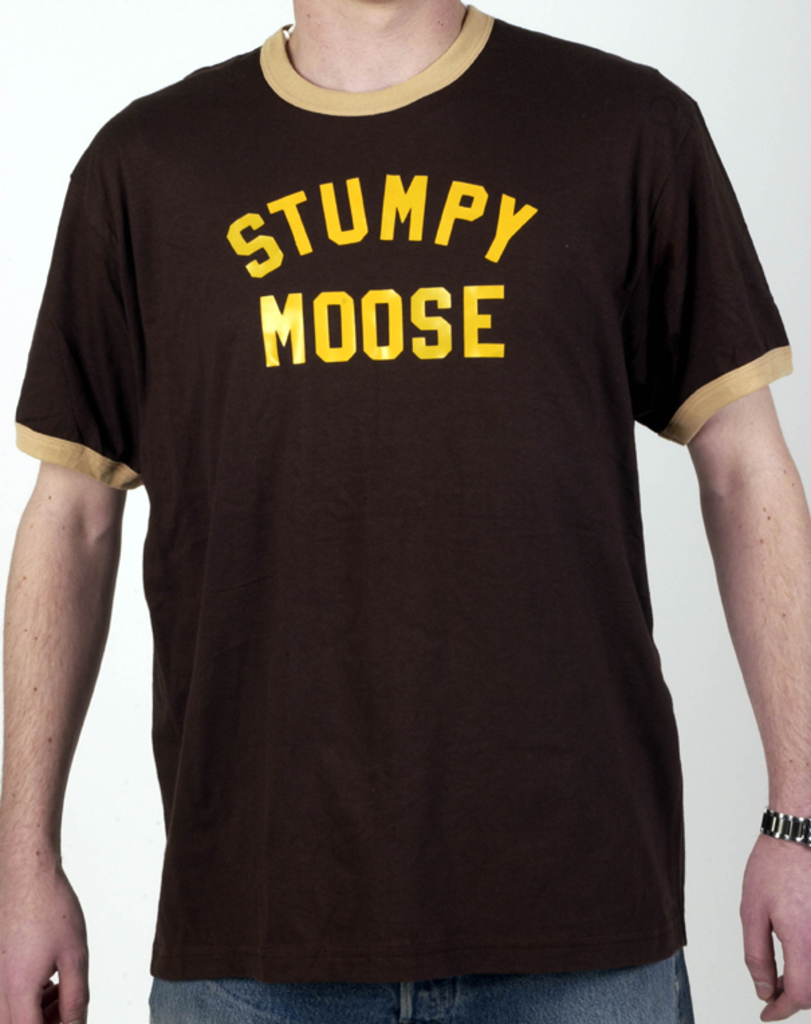Person: (0, 0, 811, 1023)
